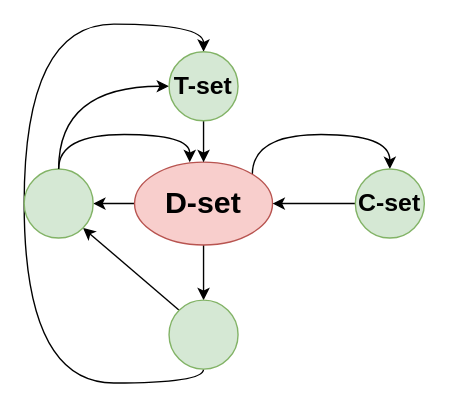
This 449x407 diagram has some shape labels left out. The centre of each missing label's shape, as x and y in pixels:
"I-set" belongs at (58,203).
"K-set" belongs at (203,334).
